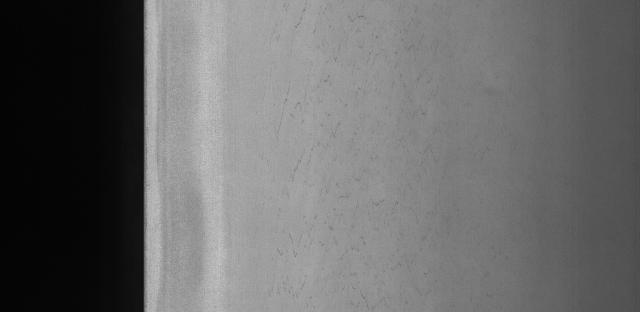silk_spot: (272, 15, 399, 266)
